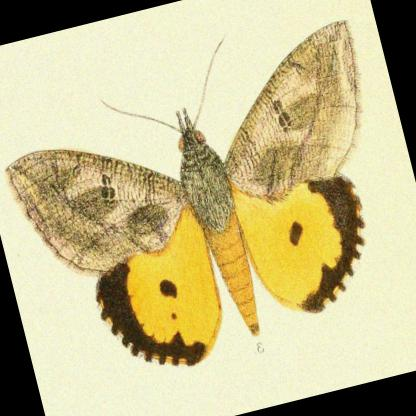fruit sucking moth: (4, 16, 365, 370)
